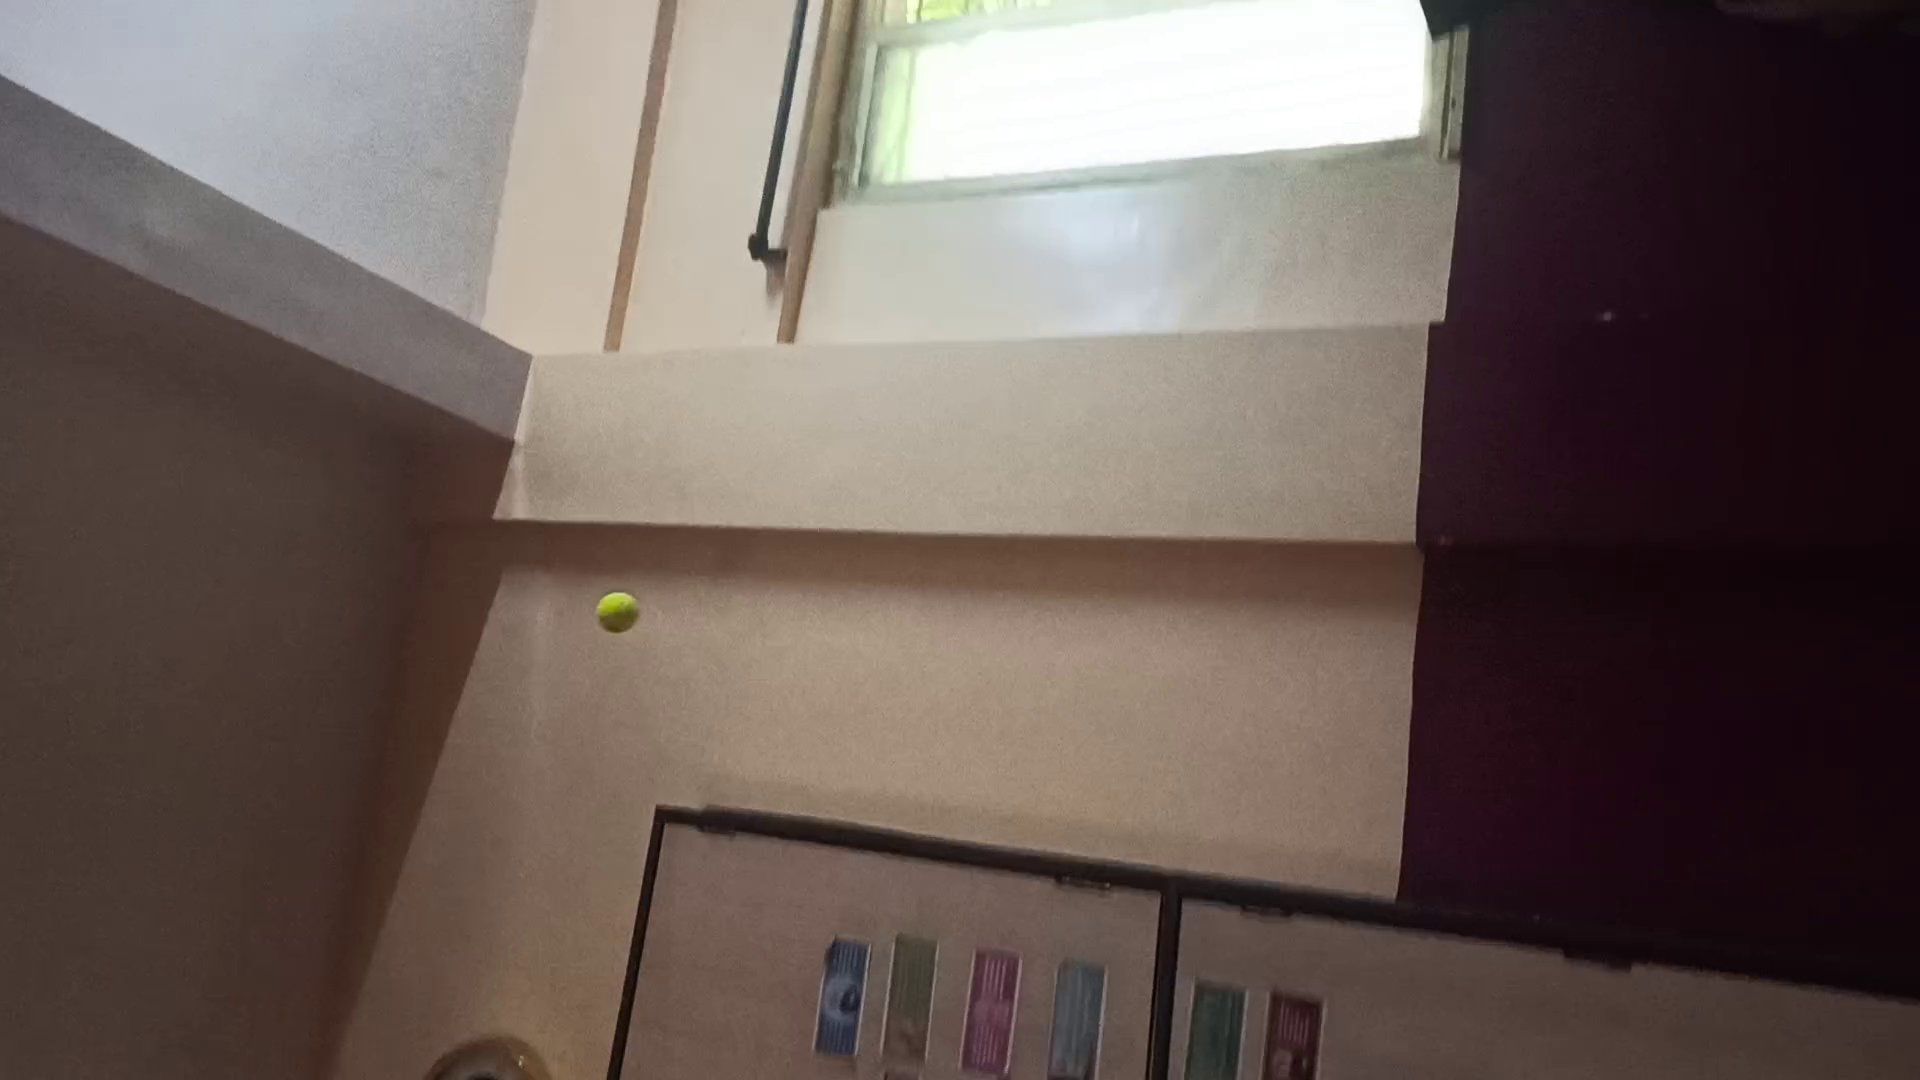Tennis-Ball: (596, 592, 640, 633)
